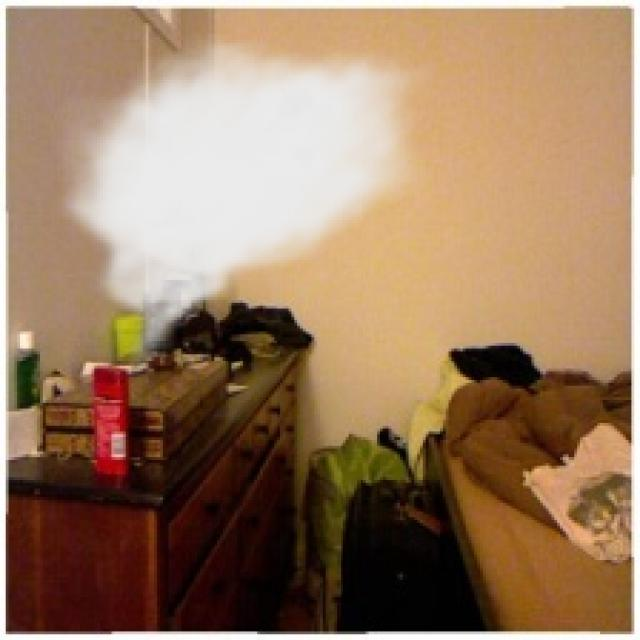smoke: (52, 31, 437, 380)
